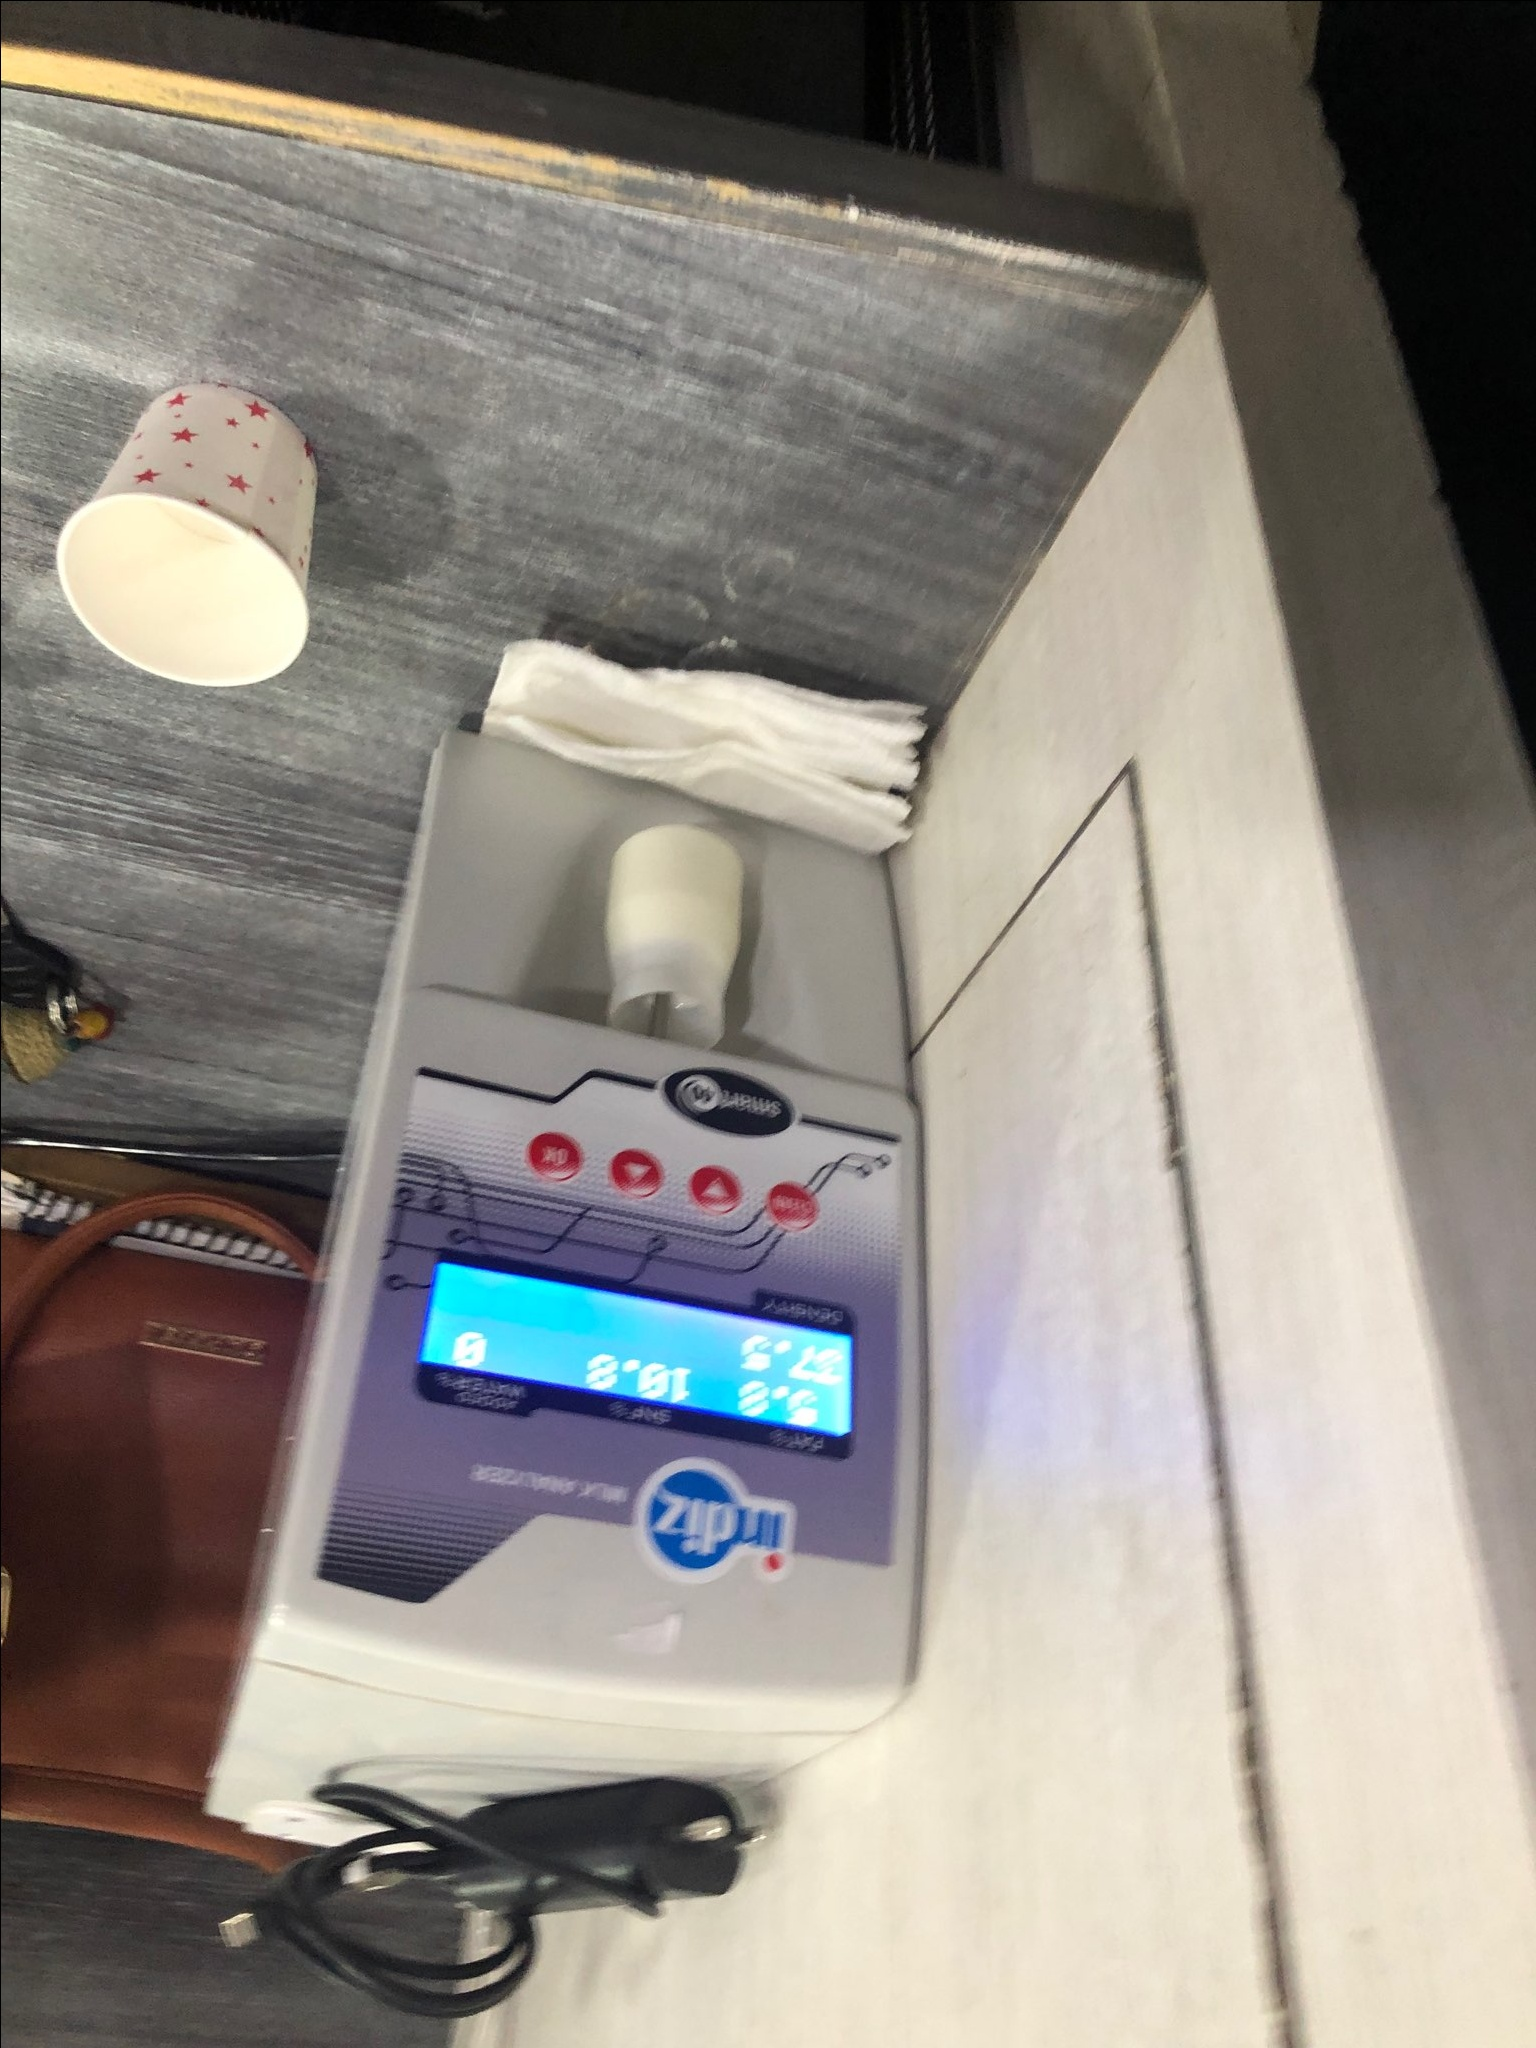lcd: (407, 1230, 871, 1498)
